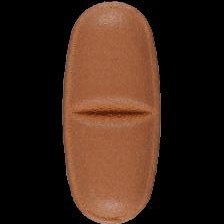68084-853: (0, 0, 224, 224)
